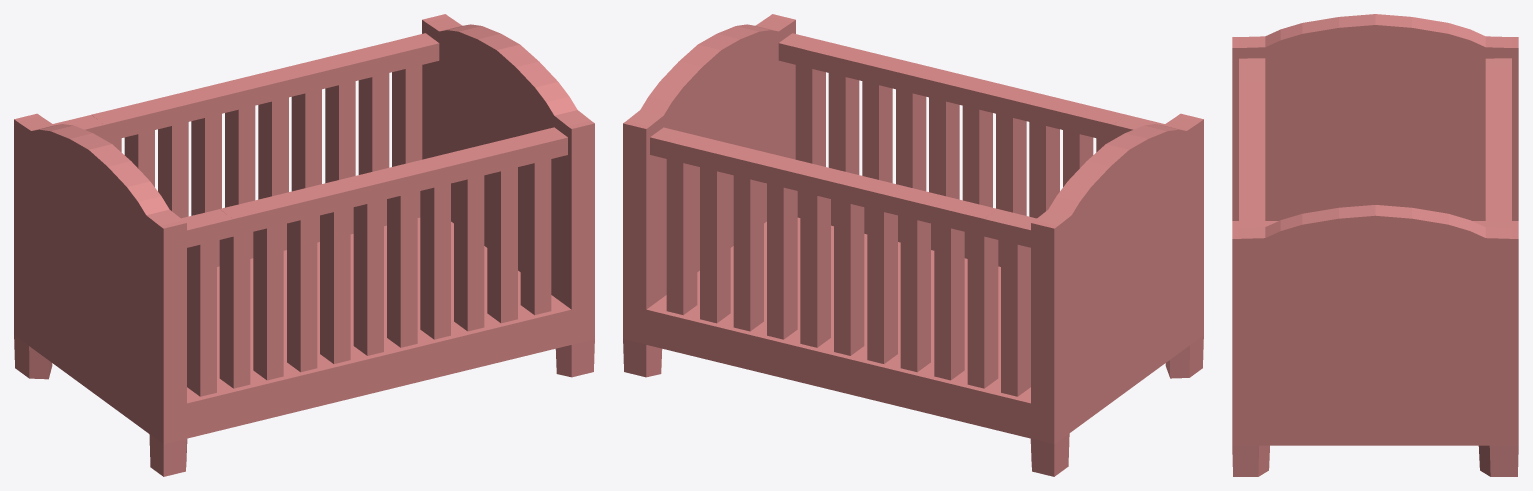
The model's file is Crib.fbx.
3 renders of one model, left to right at view 1: azimuth 30°, elevation 25°; view 2: azimuth 150°, elevation 25°; view 3: azimuth 270°, elevation 25°, orthographic. The views are drawn at different scales.
Parts seen in each view (by area): view 1: Crib_01 - Default_0; view 2: Crib_01 - Default_0; view 3: Crib_01 - Default_0.
Boxes of the visible parts, x1,y1,x2,y2 form: Crib_01 - Default_0: [14, 14, 594, 476]; Crib_01 - Default_0: [623, 14, 1203, 476]; Crib_01 - Default_0: [1232, 14, 1518, 476].
Size of the model in its own units: 75.1 by 75.65 by 125.
